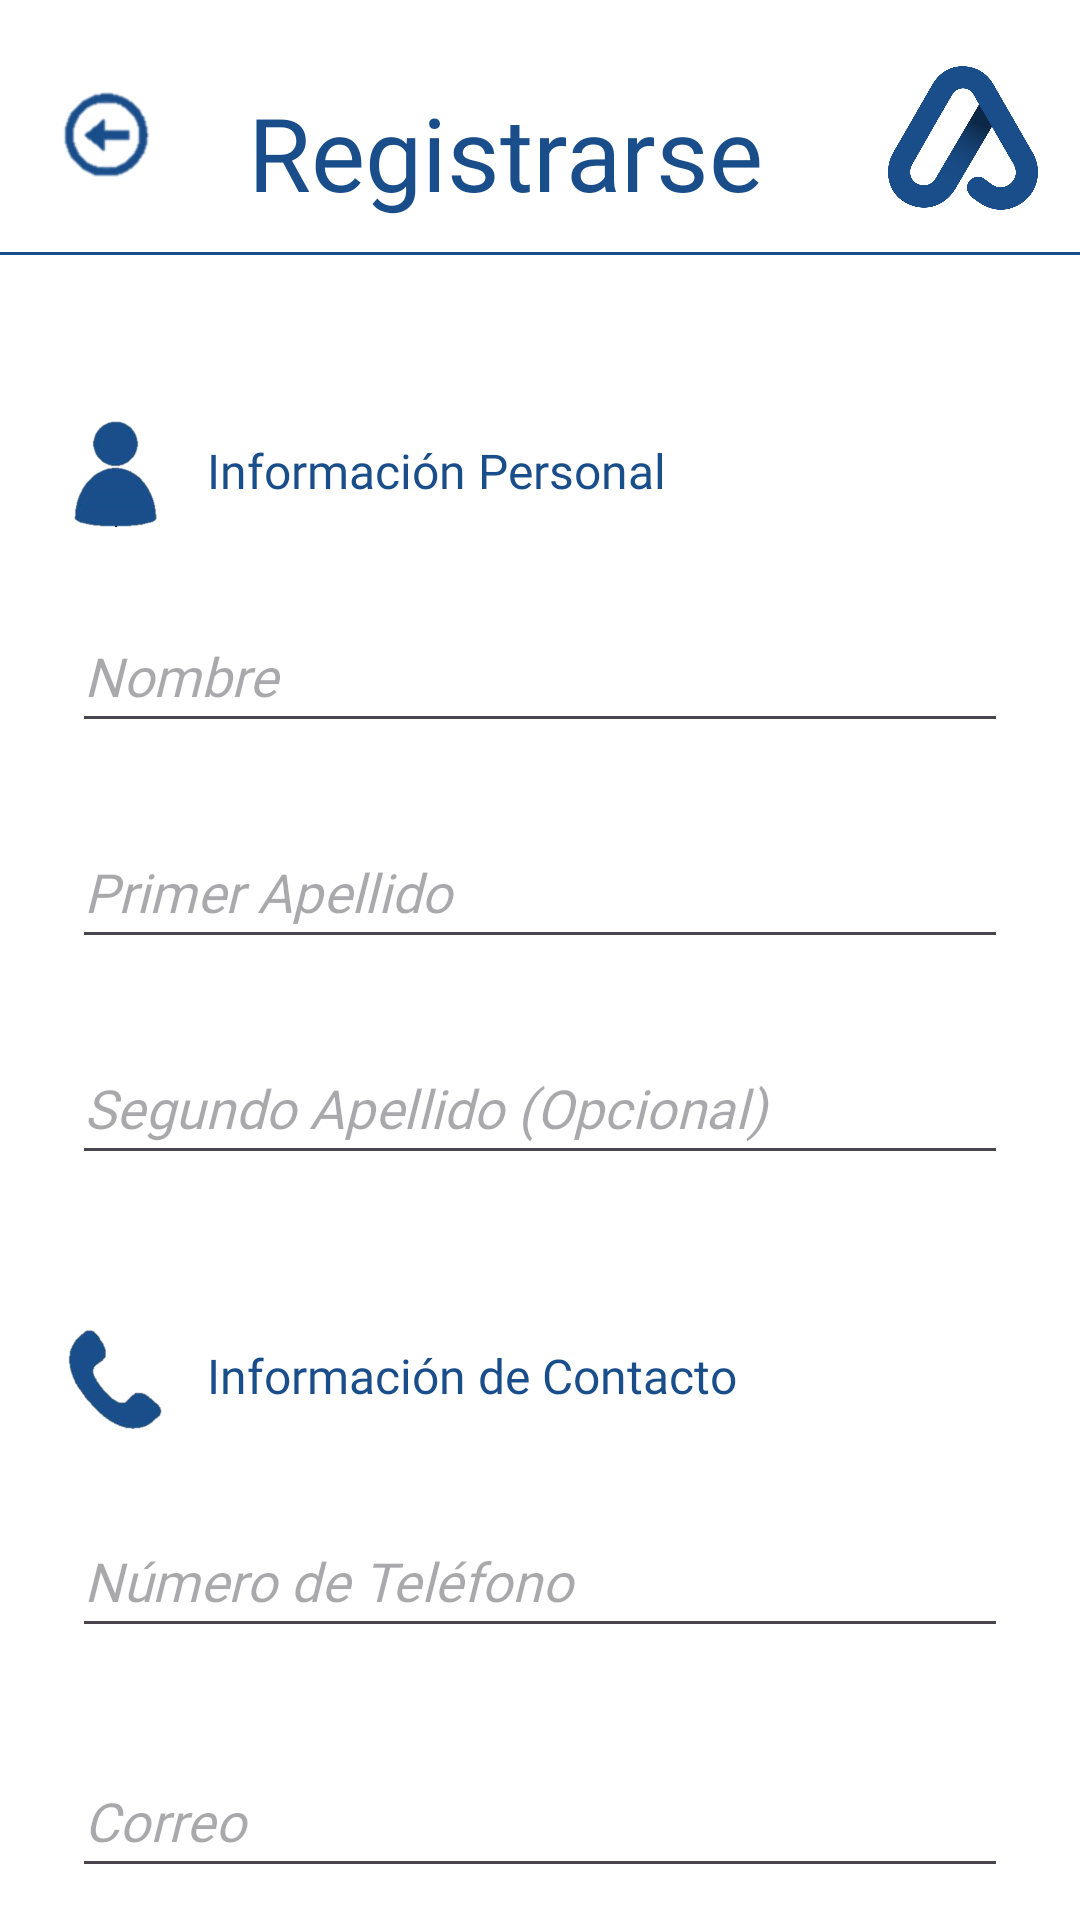

Where icons sit on this 1080×1920 app screen, as (x1, y1, x2, y2):
perfil: (74, 421, 157, 527)
regresar: (64, 92, 149, 177)
telefono: (69, 1330, 162, 1429)
